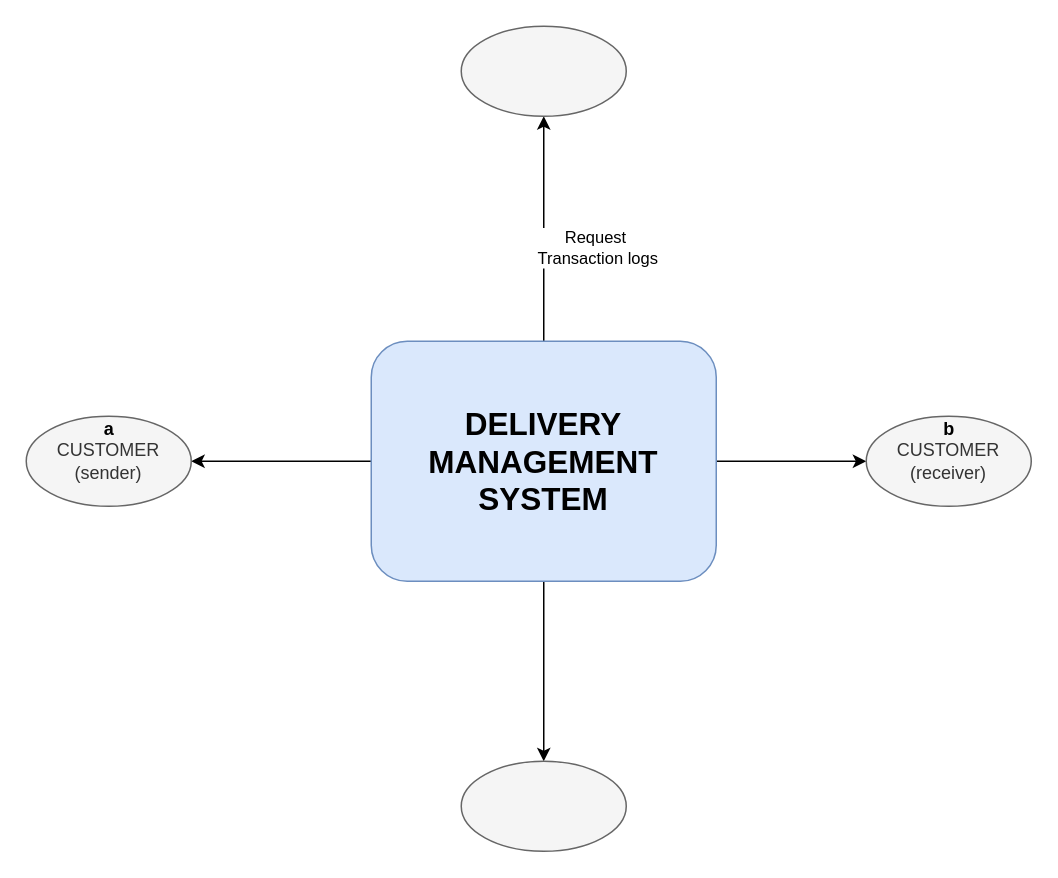
Some shapes in this 1058 by 878 pixel diagram are drawn without their labels. Each missing label, with the centre of its shape:
"ADMIN" belongs at point 543,70.
"DELIVERY CAR" belongs at point 543,805.
